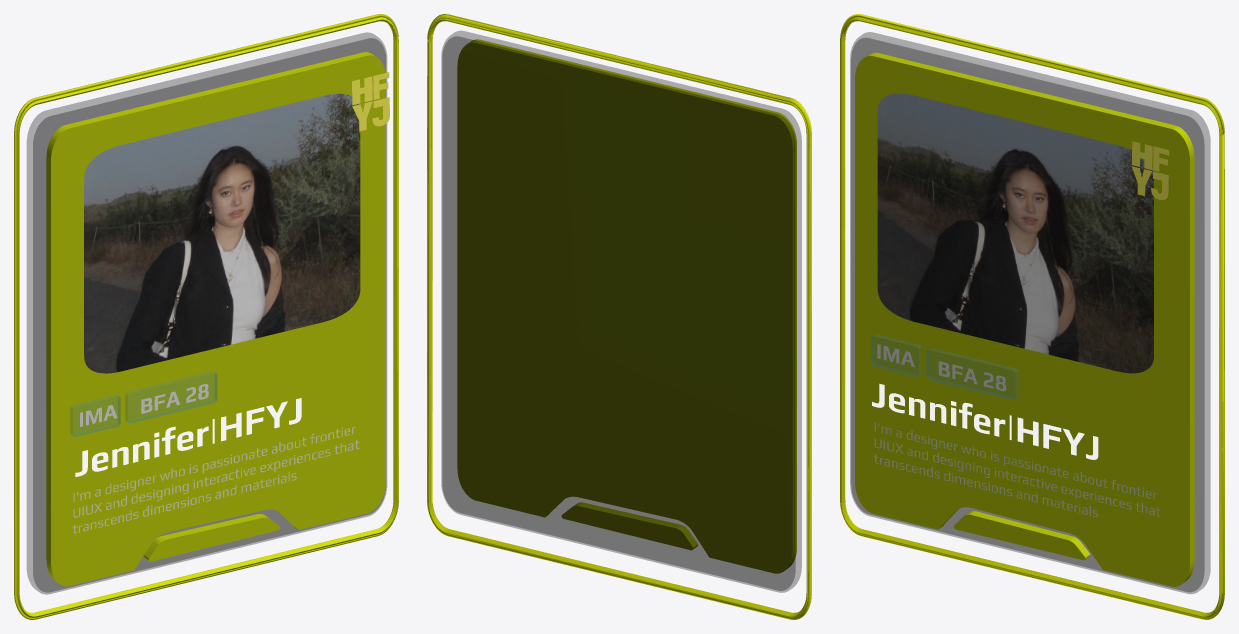
The model's file is about.glb.
3 renders of one model, left to right at view 1: azimuth 30°, elevation 25°; view 2: azimuth 150°, elevation 25°; view 3: azimuth 330°, elevation 25°, orthographic.
Visible parts, largest first — view 1: Boolean, image, Rectangle, Rectangle 6, Text.003, Shape, Text, Plane.001, Logo V1.png, Plane, Text.002; view 2: Rectangle, Boolean, Rectangle 6, Shape; view 3: Boolean, image, Rectangle, Rectangle 6, Text.003, Shape, Text, Plane.001, Logo V1.png, Plane, Text.002.
Boxes of the visible parts, x1,y1,x2,y2 form: Boolean: (46,52,385,586); image: (84,93,360,373); Rectangle: (27,32,386,594); Rectangle 6: (14,14,398,619); Text.003: (72,426,359,533); Shape: (143,514,280,561); Text: (75,398,301,476); Plane.001: (126,372,216,422); Logo V1.png: (352,72,389,131); Plane: (71,395,120,436); Text.002: (141,384,208,413); Rectangle: (441,31,801,592); Boolean: (457,39,796,573); Rectangle 6: (427,14,811,619); Shape: (561,502,697,550); Boolean: (855,52,1194,586); image: (877,93,1153,373); Rectangle: (850,32,1210,593); Rectangle 6: (840,14,1224,619); Text.003: (873,422,1160,517); Shape: (953,511,1090,560); Text: (872,383,1098,459); Plane.001: (926,349,1017,399); Logo V1.png: (1131,141,1169,200); Plane: (871,335,920,376); Text.002: (938,361,1006,390).
Bounding box in the file's own units: 4.27 × 5.55 × 0.4878.
8 materials, 2 textured.
